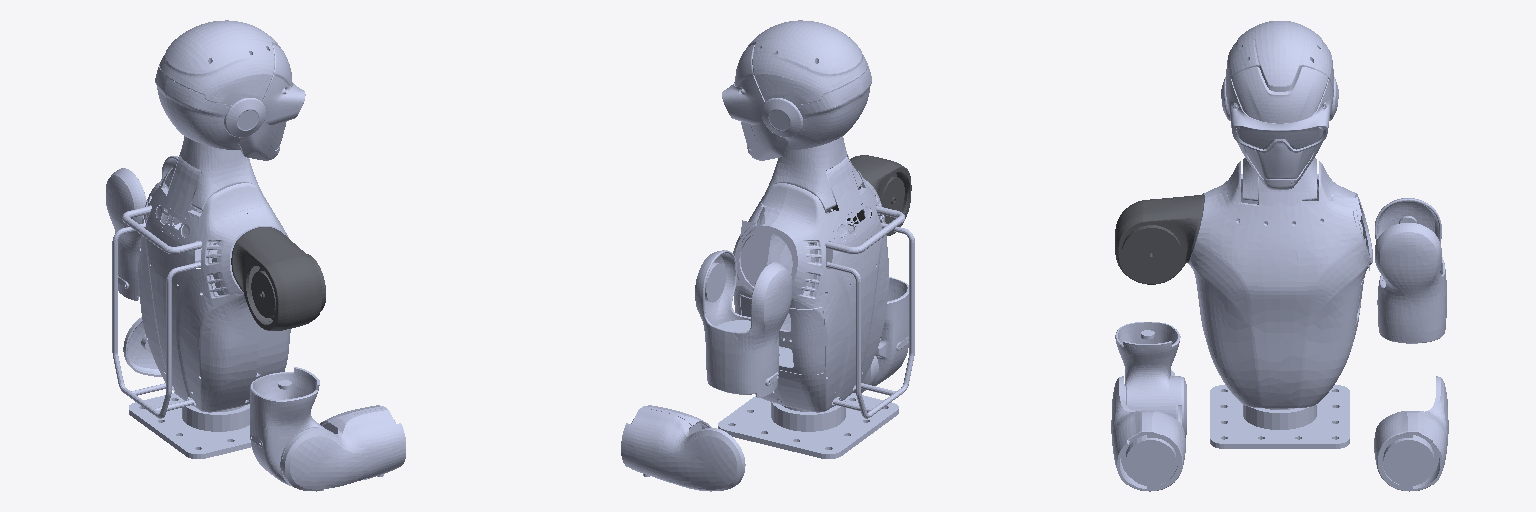
The robot description file, URDF, robot "A5":
<robot name="A5">
  <material name="silvery">
    <color rgba="0.79216 0.81961 0.93333 1"/>
  </material>
  <material name="dark_gray">
    <color rgba="0.416 0.427 0.455 1"/>
  </material>
  <link name="pelvis_link">
    <inertial>
      <origin xyz="0 0 -0.01908191" rpy="0 0 0"/>
      <mass value="0.44340496"/>
      <inertia ixx="0.00073466" ixy="0" ixz="0" iyy="0.00073466" iyz="0" izz="0.00142699"/>
    </inertial>
    <visual>
      <origin xyz="0 0 0" rpy="0 0 0"/>
      <geometry>
        <mesh filename="meshes/pelvis_link_a5.STL"/>
      </geometry>
      <material name="silvery"/>
    </visual>
    <collision>
      <origin xyz="0 0 0" rpy="0 0 0"/>
      <geometry>
        <mesh filename="meshes/pelvis_link_a5.STL"/>
      </geometry>
    </collision>
  </link>
  <link name="waist_yaw_link">
    <inertial>
      <origin xyz="-0.000648 -0.000052  0.144497" rpy="0 0 0"/>
      <mass value="6.024198"/>
      <inertia ixx="0.060949" ixy="-0.000060" ixz="0.001044" iyy="0.050645" iyz="-0.000164" izz="0.024602"/>
    </inertial>
    <visual>
      <origin xyz="0 0 0" rpy="0 0 0"/>
      <geometry>
        <mesh filename="meshes/waist_yaw_link_a5.STL"/>
      </geometry>
      <material name="silvery"/>
    </visual>
    <collision>
      <origin xyz="0 0 0" rpy="0 0 0"/>
      <geometry>
        <mesh filename="meshes/waist_yaw_link_a5.STL"/>
      </geometry>
    </collision>
  </link>
  <joint name="waist_yaw_joint" type="revolute">
    <origin xyz="0 0 0" rpy="0 0 0"/>
    <parent link="pelvis_link"/>
    <child link="waist_yaw_link"/>
    <axis xyz="0 0 1"/>
    <limit lower="-2.618" upper="2.618" effort="60" velocity="18.7"/>
  </joint>
  <link name="left_shoulder_pitch_link">
    <inertial>
      <origin xyz="0.00294386 0.04476868 -0.02286868" rpy="0 0 0"/>
      <mass value="0.83794992"/>
      <inertia ixx="0.00066072" ixy="-0.00000492" ixz="0.00001580" iyy="0.00060170" iyz="0.00005557" izz="0.00057741"/>
    </inertial>
    <visual>
      <origin xyz="0 0 0" rpy="0 0 0"/>
      <geometry>
        <mesh filename="meshes/left_shoulder_pitch_link.STL"/>
      </geometry>
      <material name="dark_gray"/>
    </visual>
    <collision>
      <origin xyz="0 0 0" rpy="0 0 0"/>
      <geometry>
        <mesh filename="meshes/left_shoulder_pitch_link.STL"/>
      </geometry>
    </collision>
  </link>
  <joint name="left_shoulder_pitch_joint" type="revolute">
    <origin xyz="0 0.085688 0.19749" rpy="0.26187 0 0"/>
    <parent link="waist_yaw_link"/>
    <child link="left_shoulder_pitch_link"/>
    <axis xyz="0 1 0"/>
    <limit lower="-3.1416" upper="2.0944" effort="60" velocity="18.7"/>
  </joint>
  <link name="left_shoulder_roll_link">
    <inertial>
      <origin xyz="-0.037828 0.003967 -0.066496" rpy="0 0 0"/>
      <mass value="0.740212"/>
      <inertia ixx="0.000971" ixy="-0.000004" ixz="0.000101" iyy="0.001089" iyz="0.000022" izz="0.000573"/>
    </inertial>
    <visual>
      <origin xyz="0 0 0" rpy="0 0 0"/>
      <geometry>
        <mesh filename="meshes/left_shoulder_roll_link_a5.STL"/>
      </geometry>
      <material name="silvery"/>
    </visual>
    <collision>
      <origin xyz="0 0 0" rpy="0 0 0"/>
      <geometry>
        <mesh filename="meshes/left_shoulder_roll_link_a5.STL"/>
      </geometry>
    </collision>
  </link>
  <joint name="left_shoulder_roll_joint" type="revolute">
    <origin xyz="0.03445 0.047132 -0.025693" rpy="-0.26187 0 0"/>
    <parent link="left_shoulder_pitch_link"/>
    <child link="left_shoulder_roll_link"/>
    <axis xyz="1 0 0"/>
    <limit lower="-0.22689" upper="2.4784" effort="60" velocity="18.7"/>
  </joint>
  <link name="left_shoulder_yaw_link">
    <inertial>
      <origin xyz="0.013143 -0.004355 -0.072948" rpy="0 0 0"/>
      <mass value="0.738441"/>
      <inertia ixx="0.000829" ixy="0.000015" ixz="0.000108" iyy="0.000852" iyz="-0.000035" izz="0.000469"/>
    </inertial>
    <visual>
      <origin xyz="0 0 0" rpy="0 0 0"/>
      <geometry>
        <mesh filename="meshes/left_shoulder_yaw_link_a5.STL"/>
      </geometry>
      <material name="silvery"/>
    </visual>
    <collision>
      <origin xyz="0 0 0" rpy="0 0 0"/>
      <geometry>
        <mesh filename="meshes/left_shoulder_yaw_link_a5.STL"/>
      </geometry>
    </collision>
  </link>
  <joint name="left_shoulder_yaw_joint" type="revolute">
    <origin xyz="-0.03445 0.0043 -0.10835" rpy="0 0 0"/>
    <parent link="left_shoulder_roll_link"/>
    <child link="left_shoulder_yaw_link"/>
    <axis xyz="0 0 1"/>
    <limit lower="-1.9199" upper="1.9199" effort="33" velocity="52.4"/>
  </joint>
  <link name="left_elbow_link">
    <inertial>
      <origin xyz="0.072371  -0.024612 -0.011566" rpy="0 0 0"/>
      <mass value="0.759419"/>
      <inertia ixx="0.000550" ixy="0.000179" ixz="0.000030" iyy="0.000892" iyz="-0.000017" izz="0.000936"/>
    </inertial>
    <visual>
      <origin xyz="0 0 0" rpy="0 0 0"/>
      <geometry>
        <mesh filename="meshes/left_elbow_link_a5.STL"/>
      </geometry>
      <material name="silvery"/>
    </visual>
    <collision>
      <origin xyz="0 0 0" rpy="0 0 0"/>
      <geometry>
        <mesh filename="meshes/left_elbow_link_a5.STL"/>
      </geometry>
    </collision>
  </link>
  <joint name="left_elbow_joint" type="revolute">
    <origin xyz="0.016191 0.026461 -0.082858" rpy="0 0 0"/>
    <parent link="left_shoulder_yaw_link"/>
    <child link="left_elbow_link"/>
    <axis xyz="0 1 0"/>
    <limit lower="-0.97564" upper="2.1852" effort="33" velocity="52.4"/>
  </joint>
  <link name="left_wrist_roll_link">
    <inertial>
      <origin xyz="0.068045 -0.001688 0.001392" rpy="0 0 0"/>
      <mass value="0.324767"/>
      <inertia ixx="0.000158" ixy="0.000023" ixz="-0.000010" iyy="0.000716" iyz="0.000004" izz="0.000705"/>
    </inertial>
    <visual>
      <origin xyz="0 0 0" rpy="0 0 0"/>
      <geometry>
        <mesh filename="meshes/left_wrist_roll_link_a5.STL"/>
      </geometry>
      <material name="silvery"/>
    </visual>
    <collision>
      <origin xyz="0 0 0" rpy="0 0 0"/>
      <geometry>
        <mesh filename="meshes/left_wrist_roll_link_a5.STL"/>
      </geometry>
    </collision>
  </link>
  <joint name="left_wrist_roll_joint" type="revolute">
    <origin xyz="0.11218 -0.03002 -0.011702" rpy="0 0 0"/>
    <parent link="left_elbow_link"/>
    <child link="left_wrist_roll_link"/>
    <axis xyz="1 0 0"/>
    <limit lower="-1.9199" upper="1.9199" effort="33" velocity="52.4"/>
  </joint>
  <link name="right_shoulder_pitch_link">
    <inertial>
      <origin xyz="0.00294386 -0.04476868 -0.02286868" rpy="0 0 0"/>
      <mass value="0.83794992"/>
      <inertia ixx="0.00066072" ixy="0.00000492" ixz="0.00001580" iyy="0.00060170" iyz="-0.00005557" izz="0.00057741"/>
    </inertial>
    <visual>
      <origin xyz="0 0 0" rpy="0 0 0"/>
      <geometry>
        <mesh filename="meshes/right_shoulder_pitch_link.STL"/>
      </geometry>
      <material name="dark_gray"/>
    </visual>
    <collision>
      <origin xyz="0 0 0" rpy="0 0 0"/>
      <geometry>
        <mesh filename="meshes/right_shoulder_pitch_link.STL"/>
      </geometry>
    </collision>
  </link>
  <joint name="right_shoulder_pitch_joint" type="revolute">
    <origin xyz="0 -0.085688 0.19749" rpy="-0.26187 0 0"/>
    <parent link="waist_yaw_link"/>
    <child link="right_shoulder_pitch_link"/>
    <axis xyz="0 1 0"/>
    <limit lower="-3.1416" upper="2.0944" effort="60" velocity="18.7"/>
  </joint>
  <link name="right_shoulder_roll_link">
    <inertial>
      <origin xyz="-0.037828 -0.003967 -0.066496" rpy="0 0 0"/>
      <mass value="0.740212"/>
      <inertia ixx="0.000971" ixy="0.000004" ixz="0.000101" iyy="0.001089" iyz="-0.000022" izz="0.000573"/>
    </inertial>
    <visual>
      <origin xyz="0 0 0" rpy="0 0 0"/>
      <geometry>
        <mesh filename="meshes/right_shoulder_roll_link.STL"/>
      </geometry>
      <material name="silvery"/>
    </visual>
    <collision>
      <origin xyz="0 0 0" rpy="0 0 0"/>
      <geometry>
        <mesh filename="meshes/right_shoulder_roll_link.STL"/>
      </geometry>
    </collision>
  </link>
  <joint name="right_shoulder_roll_joint" type="revolute">
    <origin xyz="0.03445 -0.047132 -0.025693" rpy="0.26187 0 0"/>
    <parent link="right_shoulder_pitch_link"/>
    <child link="right_shoulder_roll_link"/>
    <axis xyz="1 0 0"/>
    <limit lower="-2.47849" upper="0.2268" effort="60" velocity="18.7"/>
  </joint>
  <link name="right_shoulder_yaw_link">
    <inertial>
      <origin xyz="0.013143 0.004355 -0.072948" rpy="0 0 0"/>
      <mass value="0.738441"/>
      <inertia ixx="0.000829" ixy="-0.000015" ixz="0.000108" iyy="0.000852" iyz="0.000035" izz="0.000469"/>
    </inertial>
    <visual>
      <origin xyz="0 0 0" rpy="0 0 0"/>
      <geometry>
        <mesh filename="meshes/right_shoulder_yaw_link_a5.STL"/>
      </geometry>
      <material name="silvery"/>
    </visual>
    <collision>
      <origin xyz="0 0 0" rpy="0 0 0"/>
      <geometry>
        <mesh filename="meshes/right_shoulder_yaw_link_a5.STL"/>
      </geometry>
    </collision>
  </link>
  <joint name="right_shoulder_yaw_joint" type="revolute">
    <origin xyz="-0.03445 -0.0043 -0.10835" rpy="0 0 0"/>
    <parent link="right_shoulder_roll_link"/>
    <child link="right_shoulder_yaw_link"/>
    <axis xyz="0 0 1"/>
    <limit lower="-1.9199" upper="1.9199" effort="33" velocity="52.4"/>
  </joint>
  <link name="right_elbow_link">
    <inertial>
      <origin xyz="0.072371  0.024612 -0.011566" rpy="0 0 0"/>
      <mass value="0.759419"/>
      <inertia ixx="0.000550" ixy="-0.000179" ixz="0.000030" iyy="0.000892" iyz="0.000017" izz="0.000936"/>
    </inertial>
    <visual>
      <origin xyz="0 0 0" rpy="0 0 0"/>
      <geometry>
        <mesh filename="meshes/right_elbow_link.STL"/>
      </geometry>
      <material name="silvery"/>
    </visual>
    <collision>
      <origin xyz="0 0 0" rpy="0 0 0"/>
      <geometry>
        <mesh filename="meshes/right_elbow_link.STL"/>
      </geometry>
    </collision>
  </link>
  <joint name="right_elbow_joint" type="revolute">
    <origin xyz="0.016191 -0.026461 -0.082858" rpy="0 0 0"/>
    <parent link="right_shoulder_yaw_link"/>
    <child link="right_elbow_link"/>
    <axis xyz="0 1 0"/>
    <limit lower="-0.97564" upper="2.1852" effort="33" velocity="52.4"/>
  </joint>
  <link name="right_wrist_roll_link">
    <inertial>
      <origin xyz="0.068045 0.001688 0.001392" rpy="0 0 0"/>
      <mass value="0.324767"/>
      <inertia ixx="0.000158" ixy="-0.000023" ixz="-0.000010" iyy="0.000716" iyz="-0.000004" izz="0.000705"/>
    </inertial>
    <visual>
      <origin xyz="0 0 0" rpy="0 0 0"/>
      <geometry>
        <mesh filename="meshes/right_wrist_roll_link_a5.STL"/>
      </geometry>
      <material name="silvery"/>
    </visual>
    <collision>
      <origin xyz="0 0 0" rpy="0 0 0"/>
      <geometry>
        <mesh filename="meshes/right_wrist_roll_link_a5.STL"/>
      </geometry>
    </collision>
  </link>
  <joint name="right_wrist_roll_joint" type="revolute">
    <origin xyz="0.11218 0.03002 -0.011702" rpy="0 0 0"/>
    <parent link="right_elbow_link"/>
    <child link="right_wrist_roll_link"/>
    <axis xyz="1 0 0"/>
    <limit lower="-1.9199" upper="1.9199" effort="33" velocity="52.4"/>
  </joint>
  <link name="head_pitch_link">
    <inertial>
      <origin xyz="-0.00006956 -0.03077972 0.08058589" rpy="0 0 0"/>
      <mass value="0.50391253"/>
      <inertia ixx="0.00095995" ixy="-0.00000045" ixz="0.00000624" iyy="0.00091344" iyz="0.00000588" izz="0.00045356"/>
    </inertial>
    <visual>
      <origin xyz="0 0 0" rpy="0 0 0"/>
      <geometry>
        <mesh filename="meshes/head_pitch_link.STL"/>
      </geometry>
      <material name="silvery"/>
    </visual>
    <collision>
      <origin xyz="0 0 0" rpy="0 0 0"/>
      <geometry>
        <mesh filename="meshes/head_pitch_link.STL"/>
      </geometry>
    </collision>
  </link>
  <joint name="head_pitch_joint" type="revolute">
    <origin xyz="-0.006 0.03155 0.255" rpy="0 0 0"/>
    <parent link="waist_yaw_link"/>
    <child link="head_pitch_link"/>
    <axis xyz="0 1 0"/>
    <limit lower="-0.62832" upper="0.62832" effort="33" velocity="52.4"/>
  </joint>
  <link name="head_yaw_link">
    <inertial>
      <origin xyz="0.02211657  -0.00004725  0.00199411" rpy="0 0 0"/>
      <mass value="0.71432240"/>
      <inertia ixx="0.00168182" ixy="0.0000001" ixz="0.00029553" iyy=" 0.00202452" iyz="0.0000001" izz="0.00181448"/>
    </inertial>
    <visual>
      <origin xyz="0 0 0" rpy="0 0 0"/>
      <geometry>
        <mesh filename="meshes/head_yaw_link.STL"/>
      </geometry>
      <material name="silvery"/>
    </visual>
    <collision>
      <origin xyz="0 0 0" rpy="0 0 0"/>
      <geometry>
        <mesh filename="meshes/head_yaw_link.STL"/>
      </geometry>
    </collision>
  </link>
  <joint name="head_yaw_joint" type="revolute">
    <origin xyz="0.0010126 -0.03155 0.1165" rpy="0 0 0"/>
    <parent link="head_pitch_link"/>
    <child link="head_yaw_link"/>
    <axis xyz="0 0 1"/>
    <limit lower="-2.0071" upper="2.0071" effort="0.86" velocity="11"/>
  </joint>
</robot>

--- What the picture shows (computed from the rendered views, not written in the file) ---
The picture shows the robot from 3 angles, left to right: view 1: azimuth 30°, elevation 25°; view 2: azimuth 150°, elevation 25°; view 3: azimuth 270°, elevation 25°; orthographic projection.
Robot: A5 — 14 links, 13 joints (13 revolute); root link pelvis_link; default pose: every joint at zero.
Links seen in each view (by area): view 1: waist_yaw_link, head_yaw_link, right_elbow_link, right_shoulder_pitch_link, right_shoulder_yaw_link, pelvis_link, left_shoulder_roll_link, head_pitch_link, left_elbow_link; view 2: waist_yaw_link, head_yaw_link, left_shoulder_roll_link, left_elbow_link, pelvis_link, head_pitch_link, right_shoulder_yaw_link, right_shoulder_pitch_link; view 3: waist_yaw_link, head_yaw_link, left_shoulder_roll_link, pelvis_link, right_shoulder_pitch_link, right_elbow_link, left_elbow_link, right_shoulder_yaw_link, head_pitch_link.
Link boxes in pixels (x1,y1,x2,y2): waist_yaw_link: [112, 157, 290, 418]; head_yaw_link: [155, 20, 305, 160]; right_elbow_link: [282, 405, 405, 491]; right_shoulder_pitch_link: [231, 227, 325, 330]; right_shoulder_yaw_link: [250, 367, 326, 486]; pelvis_link: [129, 393, 251, 458]; left_shoulder_roll_link: [106, 156, 177, 300]; head_pitch_link: [165, 136, 262, 210]; left_elbow_link: [123, 317, 161, 376]; waist_yaw_link: [733, 157, 914, 418]; head_yaw_link: [722, 20, 871, 160]; left_shoulder_roll_link: [695, 250, 792, 397]; left_elbow_link: [621, 405, 745, 491]; pelvis_link: [718, 393, 898, 458]; head_pitch_link: [765, 136, 862, 210]; right_shoulder_yaw_link: [853, 277, 908, 392]; right_shoulder_pitch_link: [832, 155, 911, 235]; waist_yaw_link: [1188, 161, 1372, 409]; head_yaw_link: [1221, 21, 1338, 190]; left_shoulder_roll_link: [1375, 198, 1446, 343]; pelvis_link: [1210, 385, 1349, 448]; right_shoulder_pitch_link: [1115, 195, 1203, 284]; right_elbow_link: [1111, 376, 1185, 491]; left_elbow_link: [1374, 376, 1448, 491]; right_shoulder_yaw_link: [1115, 322, 1186, 437]; head_pitch_link: [1243, 144, 1316, 203].
Size in the robot's own frame: 0.2289 by 0.3625 by 0.4959 metres.
9 mesh visuals loaded from 14 distinct referenced files (9 binary STL); not drawn: 5 (reference not matched to a file when rendering).
